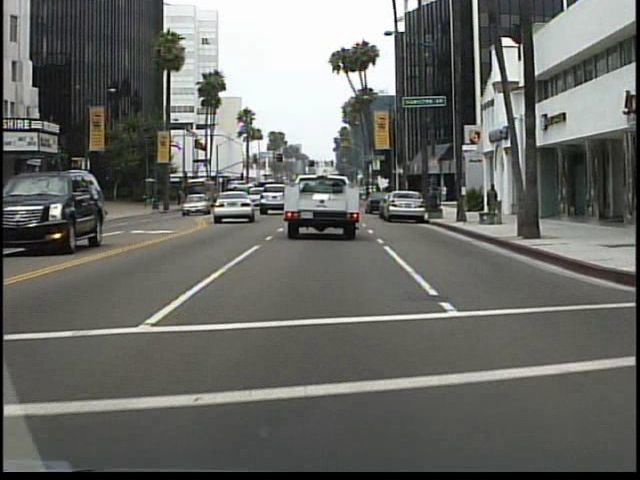person: (483, 181, 501, 220), (142, 190, 152, 213)
